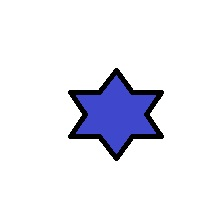star: (68, 68, 164, 162)
